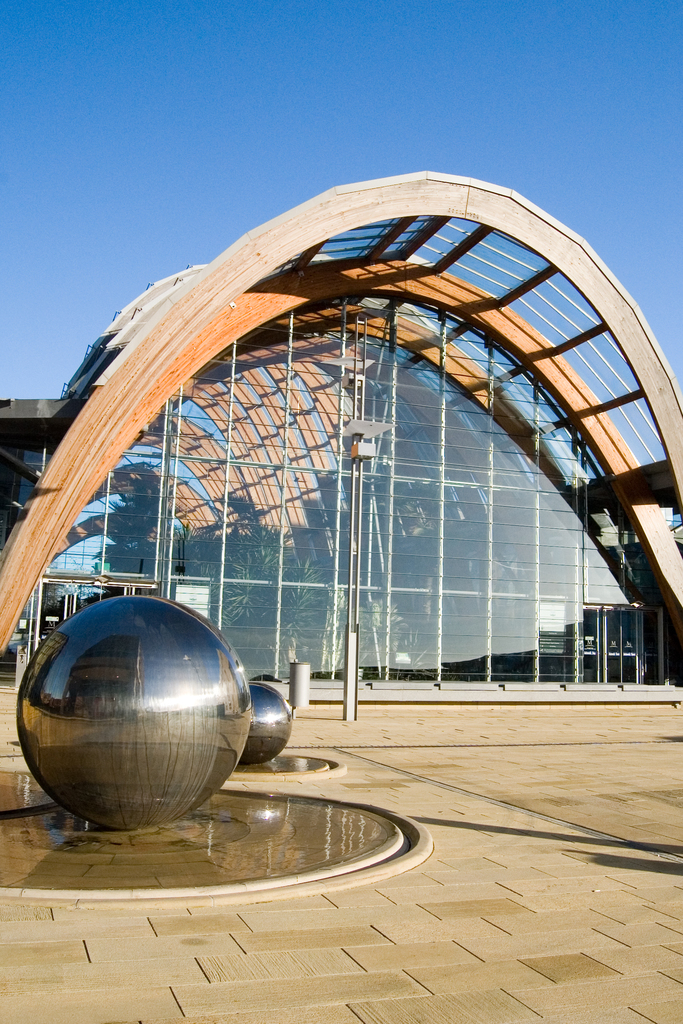Ball: (16, 596, 256, 830), (238, 680, 292, 765)
